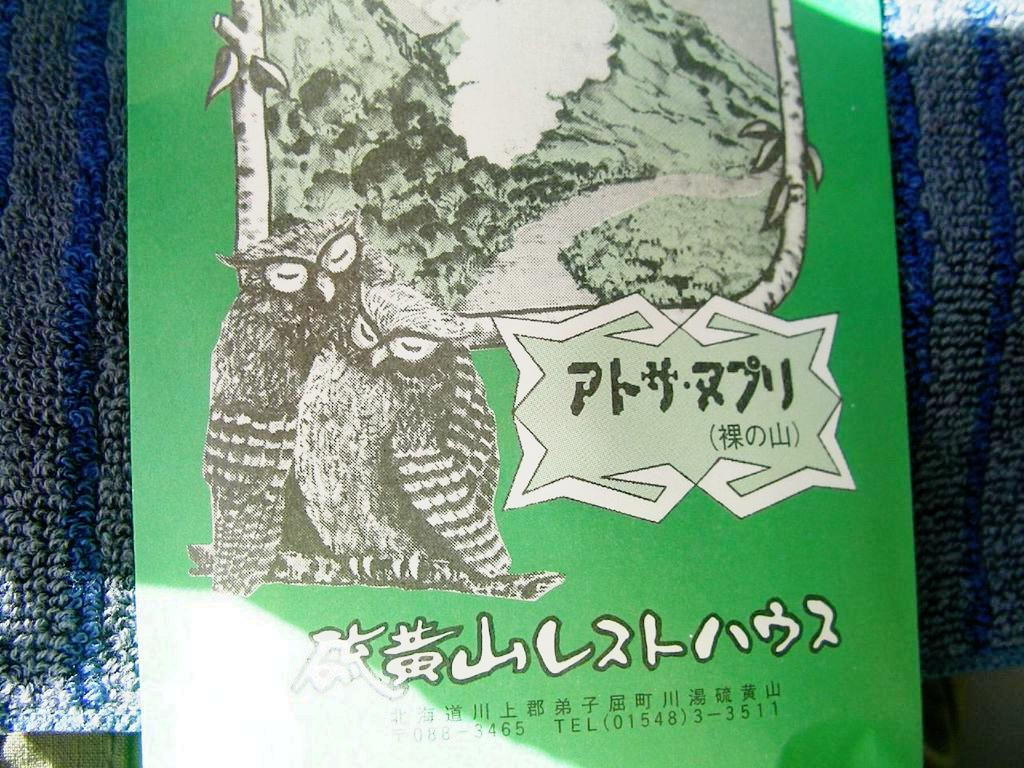Owl: (198, 208, 384, 598), (292, 274, 516, 576)
